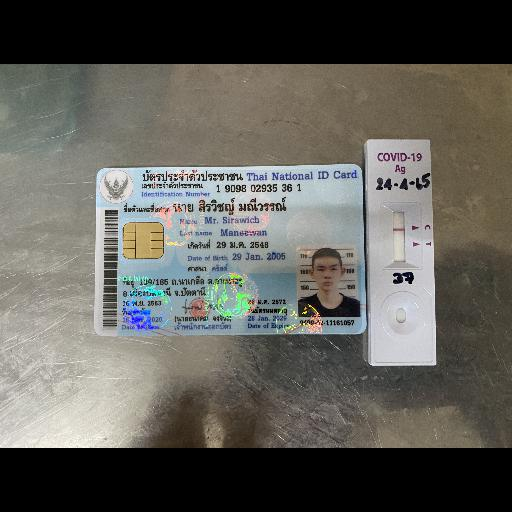Neg: (366, 138, 436, 364)
